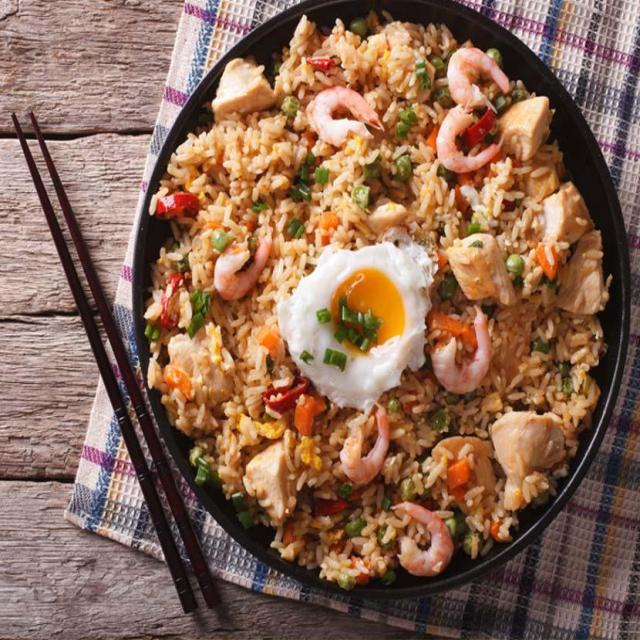Nasi Goreng: (140, 10, 611, 590)
